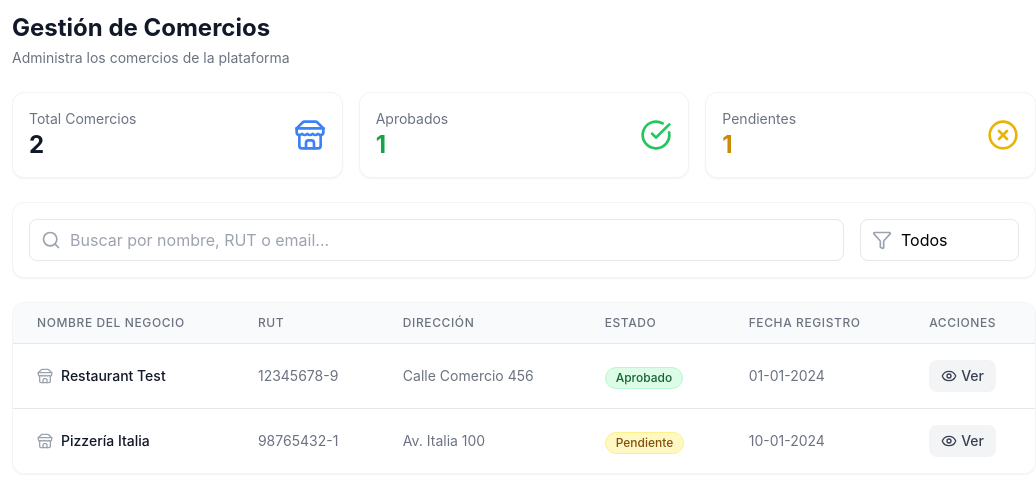
it: Merchants Component › Filtros › debe filtrar comercios aprobados
Expected: the text "Restaurant Test" is shown, [61,366,166,386]
Select "Aprobados" in the dropdown at (940, 240), box [860,219,1019,261]
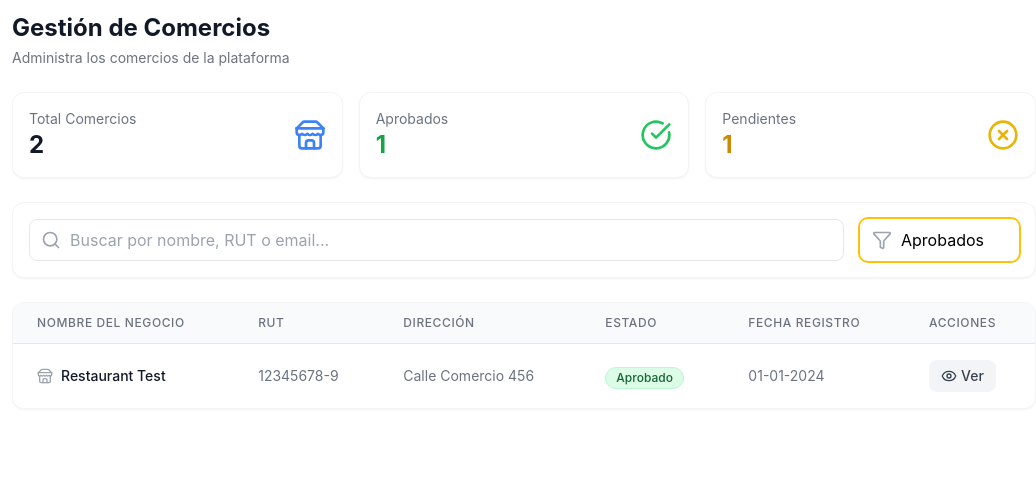
Expected: the text "Restaurant Test" is shown, [61,366,166,386]
Result: the text "Pizzería Italia" is gone
